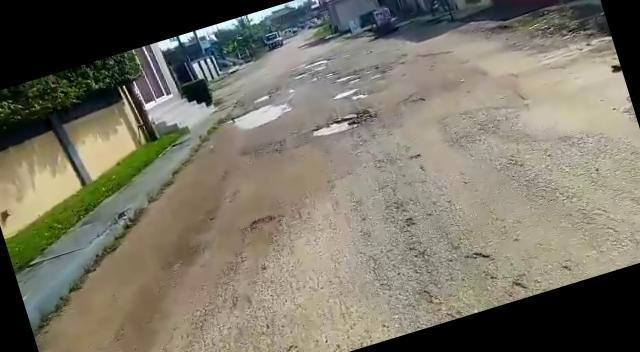pothole: (227, 96, 292, 134), (312, 106, 375, 140), (342, 83, 378, 104), (328, 84, 362, 100)
